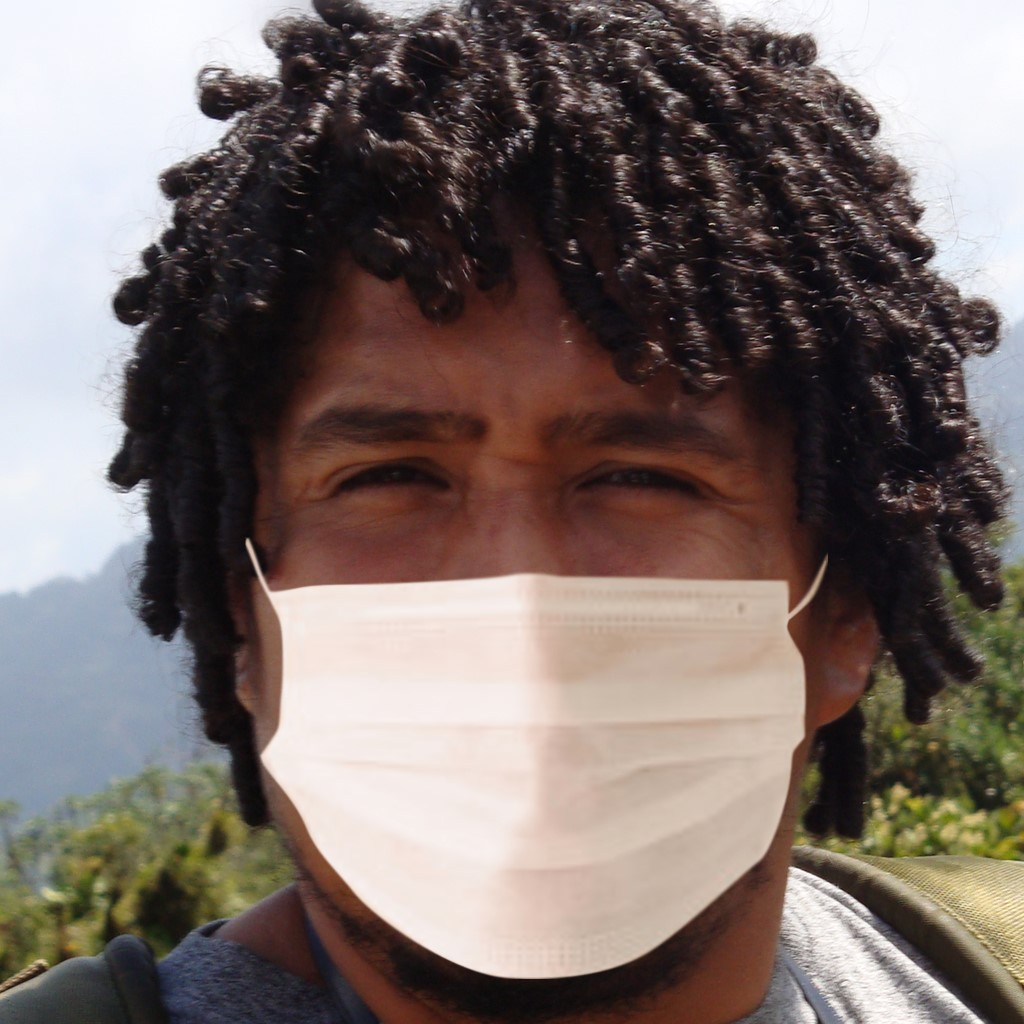con_mascara: (233, 217, 842, 977)
